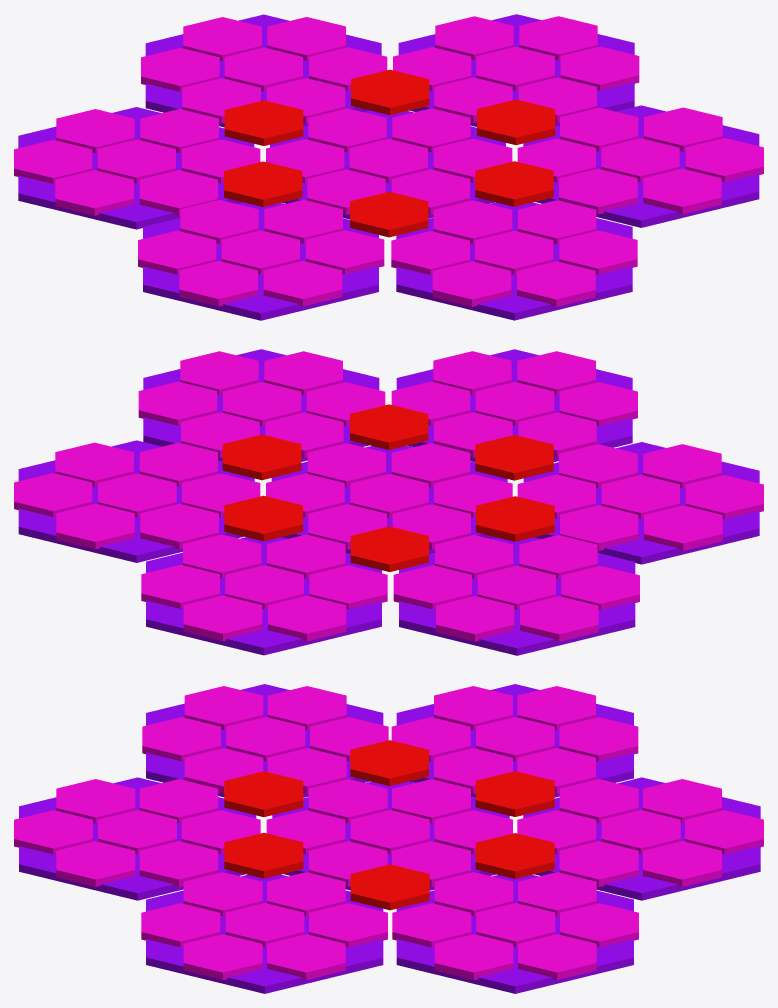
File: クロマクロバリア.fbx
3 renders of one model, top to bottom at view 1: azimuth 30°, elevation 25°; view 2: azimuth 150°, elevation 25°; view 3: azimuth 270°, elevation 25°, orthographic.
Visible parts, largest first — view 1: pasted__pasted__pasted__pasted__pasted__pasted__pasted__past (×3), pasted__pasted__pasted__pasted__pasted__pasted__pasted__pCyl (×3), polySurface3, pasted__pasted__pasted__polySurface7 (×3), pasted__pasted__pCylinder1 (×2), pasted__pasted__polySurface7 (×2), pasted__pCylinder1, pasted__pasted__pasted__pasted__pasted__pCylinder1, pasted__polySurface7, pasted__pasted__pasted__pasted__pCylinder1, pasted__pasted__pasted__pCylinder1, pCylinder1; view 2: pasted__pasted__pasted__pasted__pasted__pasted__pasted__pCyl (×3), pasted__pasted__pasted__pasted__pasted__pasted__pasted__past (×3), polySurface3, pasted__pasted__pasted__polySurface7 (×3), pasted__pasted__pCylinder1 (×2), pasted__pasted__polySurface7 (×2), pasted__pasted__pasted__pasted__pCylinder1, pasted__pasted__pasted__pCylinder1, pasted__pCylinder1, pasted__polySurface7, pasted__pasted__pasted__pasted__pasted__pCylinder1, pCylinder1; view 3: pasted__pasted__pasted__pasted__pasted__pasted__pasted__pCyl (×3), pasted__pasted__pasted__pasted__pasted__pasted__pasted__past (×3), polySurface3, pasted__pasted__pasted__polySurface7 (×3), pasted__pasted__pCylinder1 (×2), pasted__pasted__polySurface7 (×2), pasted__pasted__pasted__pCylinder1, pasted__pasted__pasted__pasted__pCylinder1, pasted__pasted__pasted__pasted__pasted__pCylinder1, pasted__polySurface7, pasted__pCylinder1, pCylinder1.
Boxes of the visible parts, box(x1,y1,x2,y2) form: pasted__pasted__pasted__pasted__pasted__pasted__pasted__past (×3): box(138, 17, 763, 306); pasted__pasted__pasted__pasted__pasted__pasted__pasted__pCyl (×3): box(14, 16, 639, 306); polySurface3: box(266, 108, 512, 214); pasted__pasted__pasted__polySurface7 (×3): box(224, 69, 429, 237); pasted__pasted__pCylinder1 (×2): box(18, 105, 759, 229); pasted__pasted__polySurface7 (×2): box(224, 100, 553, 206); pasted__pCylinder1: box(143, 202, 378, 320); pasted__pasted__pasted__pasted__pasted__pCylinder1: box(396, 202, 632, 320); pasted__polySurface7: box(477, 99, 555, 145); pasted__pasted__pasted__pasted__pCylinder1: box(145, 14, 381, 127); pasted__pasted__pasted__pCylinder1: box(398, 14, 634, 126); pCylinder1: box(270, 110, 505, 219); pasted__pasted__pasted__pasted__pasted__pasted__pasted__pCyl (×3): box(14, 351, 639, 641); pasted__pasted__pasted__pasted__pasted__pasted__pasted__past (×3): box(138, 351, 763, 641); polySurface3: box(266, 443, 512, 549); pasted__pasted__pasted__polySurface7 (×3): box(224, 435, 554, 541); pasted__pasted__pCylinder1 (×2): box(143, 349, 635, 655); pasted__pasted__polySurface7 (×2): box(350, 404, 428, 571); pasted__pasted__pasted__pasted__pCylinder1: box(146, 537, 381, 655); pasted__pasted__pasted__pCylinder1: box(18, 440, 254, 562); pasted__pCylinder1: box(523, 442, 759, 564); pasted__polySurface7: box(222, 434, 301, 480); pasted__pasted__pasted__pasted__pasted__pCylinder1: box(396, 349, 632, 462); pCylinder1: box(271, 446, 507, 554); pasted__pasted__pasted__pasted__pasted__pasted__pasted__pCyl (×3): box(14, 686, 638, 979); pasted__pasted__pasted__pasted__pasted__pasted__pasted__past (×3): box(141, 686, 763, 979); polySurface3: box(266, 779, 512, 886); pasted__pasted__pasted__polySurface7 (×3): box(224, 740, 554, 878); pasted__pasted__pCylinder1 (×2): box(146, 684, 633, 993); pasted__pasted__polySurface7 (×2): box(224, 771, 554, 878); pasted__pasted__pasted__pCylinder1: box(396, 875, 633, 993); pasted__pasted__pasted__pasted__pCylinder1: box(523, 777, 760, 900); pasted__pasted__pasted__pasted__pasted__pCylinder1: box(19, 777, 256, 900); pasted__polySurface7: box(350, 864, 429, 910); pasted__pCylinder1: box(146, 684, 383, 797); pCylinder1: box(272, 781, 509, 890).
Size of the model in its own units: 5.22 by 0.1739 by 5.47.
